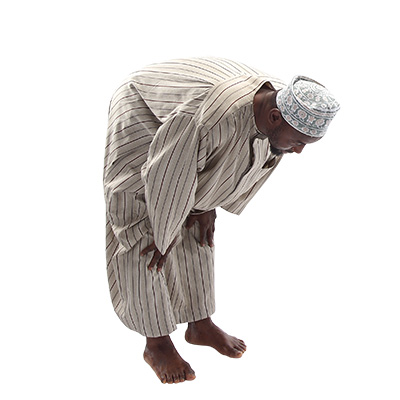ruku: (77, 34, 346, 391)
